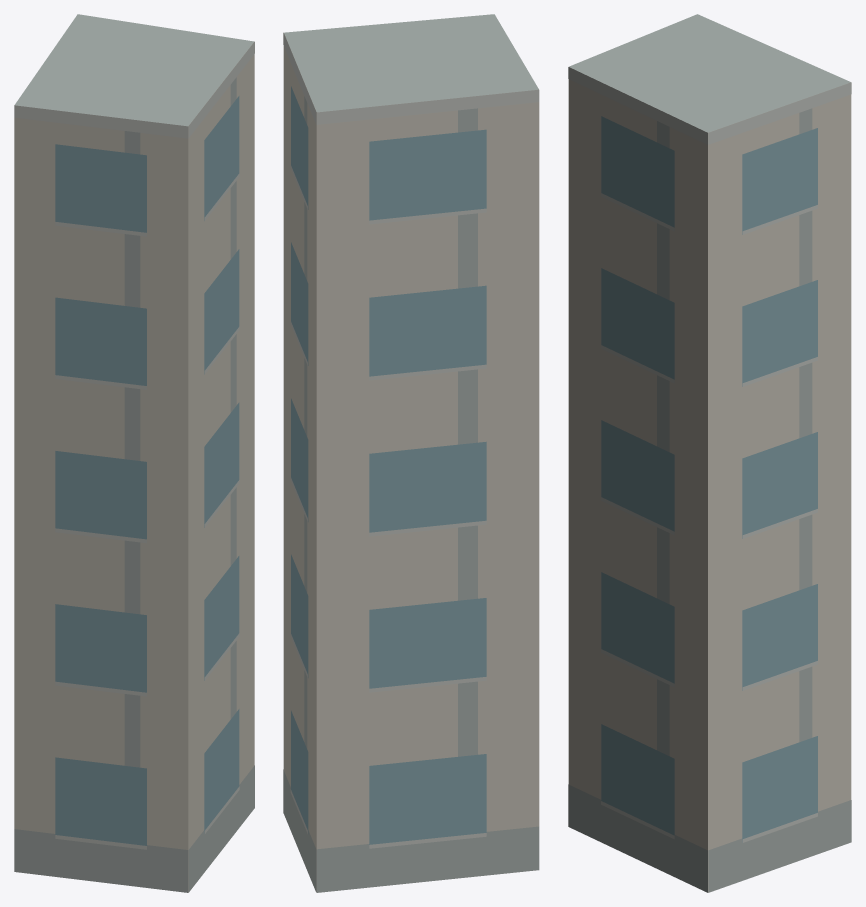
Rendered from survey-upis-32984459.glb.
3 views of the same model, side by side, from view 1: azimuth 30°, elevation 25°; view 2: azimuth 150°, elevation 25°; view 3: azimuth 270°, elevation 25° (orthographic). The views are drawn at different scales.
Parts seen in each view (by area): view 1: survey-upis-32984459.tmp; view 2: survey-upis-32984459.tmp; view 3: survey-upis-32984459.tmp.
Boxes of the visible parts, x1,y1,x2,y2 form: survey-upis-32984459.tmp: (14, 14, 254, 892); survey-upis-32984459.tmp: (283, 14, 539, 892); survey-upis-32984459.tmp: (568, 14, 851, 892).
Size of the model in its own units: 5.12 by 15.25 by 5.15.
